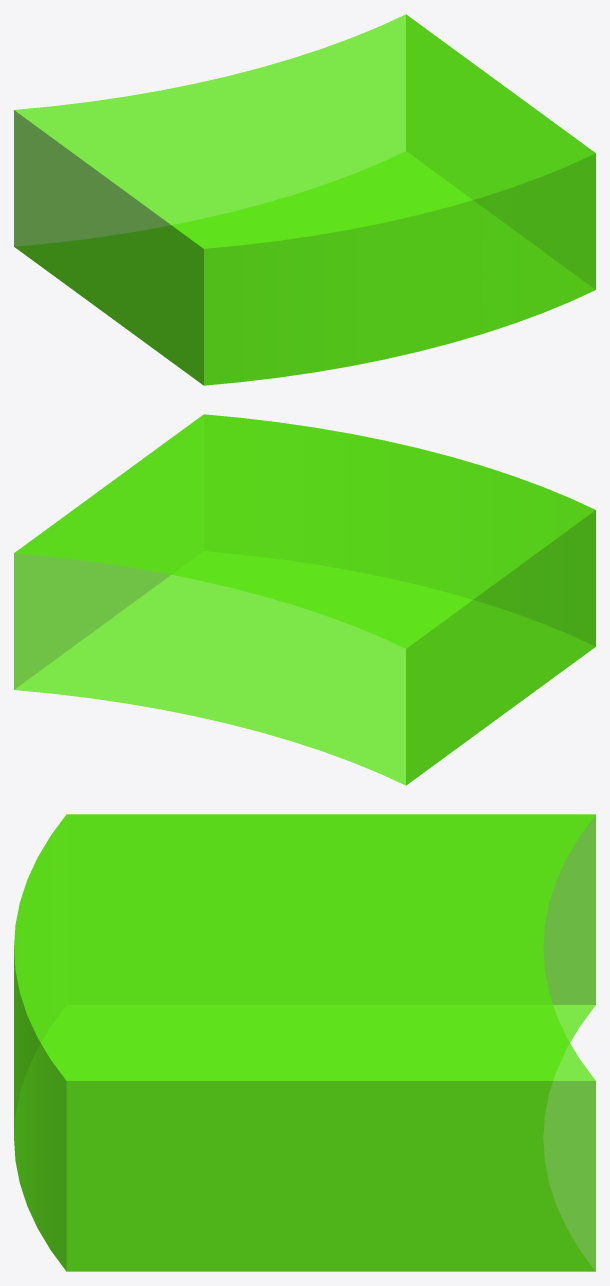
Rendered from original-4.obj.
3 views of the same model, one above another, from view 1: azimuth 30°, elevation 25°; view 2: azimuth 150°, elevation 25°; view 3: azimuth 270°, elevation 25° (orthographic). The views are drawn at different scales.
Visible parts, largest first — view 1: Group4/mesh8/mesh8-geometry#mesh8-geometry; view 2: Group4/mesh8/mesh8-geometry#mesh8-geometry; view 3: Group4/mesh8/mesh8-geometry#mesh8-geometry.
Boxes of the visible parts, x1=… form: Group4/mesh8/mesh8-geometry#mesh8-geometry: x1=14, y1=14, x2=595, y2=385; Group4/mesh8/mesh8-geometry#mesh8-geometry: x1=14, y1=414, x2=595, y2=785; Group4/mesh8/mesh8-geometry#mesh8-geometry: x1=14, y1=814, x2=595, y2=1271.
Size of the model in its own units: 0.4758 by 0.1586 by 0.4385.
